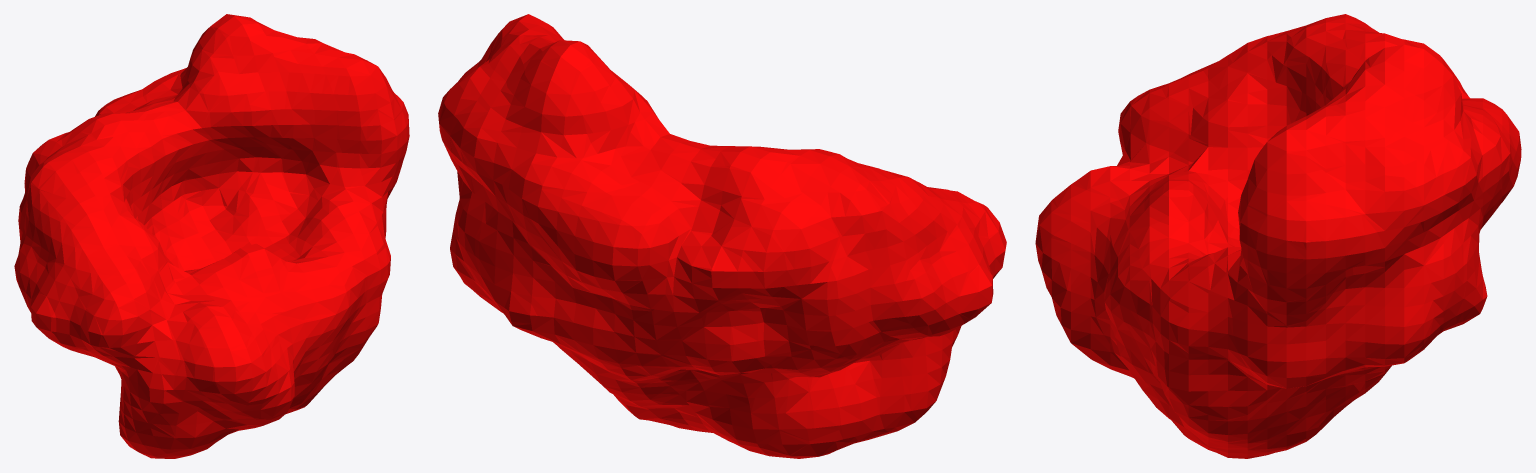
Rendered from pmbA_coarse.dae.
The picture shows the model from 3 angles, left to right: view 1: azimuth 30°, elevation 25°; view 2: azimuth 150°, elevation 25°; view 3: azimuth 270°, elevation 25°; orthographic projection. The views are drawn at different scales.
Visible parts, largest first — view 1: pmbA; view 2: pmbA; view 3: pmbA.
Boxes of the visible parts, x1,y1,x2,y2 form: pmbA: [14, 14, 409, 458]; pmbA: [438, 14, 1006, 458]; pmbA: [1035, 14, 1521, 458].
Size of the model in its own units: 75.53 by 62.37 by 63.83.
